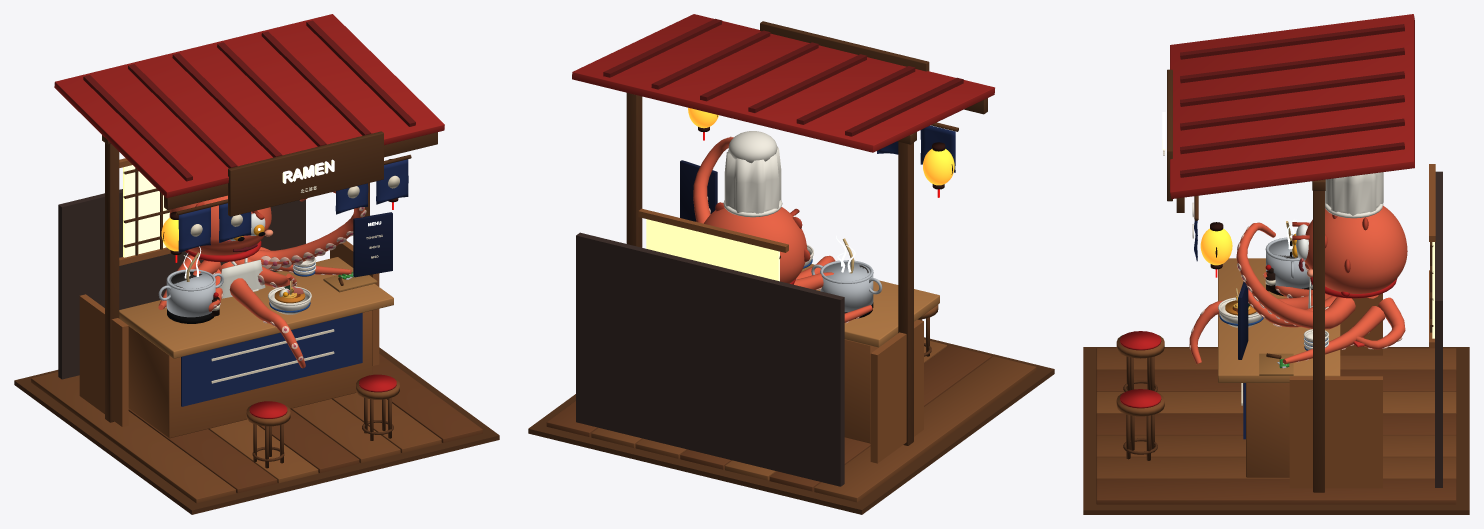
The model's file is octopus-ramen-chef.glb.
3 views of the same model, side by side, from view 1: azimuth 30°, elevation 25°; view 2: azimuth 150°, elevation 25°; view 3: azimuth 270°, elevation 25° (orthographic). The views are drawn at different scales.
Visible parts, largest first — view 1: Roof, BackWall, Cabinet, CounterTop, Machikake, SignBoard, Skirt, Plank_0, WingL, PostL, Plank_6, Plank_1 (+27 smaller); view 2: BackWall, Roof, Skirt, Plank_0, WingL, ShojiPaper, PostL, Plank_1, Toque, Mantle, CounterTop, Cabinet (+17 smaller); view 3: Roof, WingR, Skirt, Plank_6, Mantle, CounterTop, Plank_5, Plank_4, Plank_3, Plank_1, Cabinet, Plank_0 (+26 smaller).
Boxes of the visible parts, x1,y1,x2,y2 form: Roof: (54, 14, 444, 198); BackWall: (58, 189, 305, 379); Cabinet: (128, 310, 372, 438); CounterTop: (119, 257, 393, 358); Machikake: (181, 313, 362, 406); SignBoard: (228, 131, 383, 216); Skirt: (14, 347, 499, 514); Plank_0: (31, 372, 235, 503); WingL: (79, 294, 128, 426); PostL: (105, 143, 119, 422); Plank_6: (372, 354, 482, 442); Plank_1: (128, 409, 277, 493); BackWall: (576, 232, 844, 486); Roof: (572, 14, 994, 152); Skirt: (528, 337, 1054, 514); Plank_0: (814, 356, 1036, 502); WingL: (870, 319, 923, 463); ShojiPaper: (646, 219, 779, 281); PostL: (898, 142, 913, 445); Plank_1: (769, 345, 991, 491); Toque: (724, 146, 781, 213); Mantle: (704, 207, 807, 283); CounterTop: (801, 264, 939, 347); Cabinet: (844, 339, 878, 443); Roof: (1170, 14, 1414, 198); WingR: (1289, 376, 1382, 488); Skirt: (1083, 347, 1469, 514); Plank_6: (1096, 479, 1456, 504); Mantle: (1304, 205, 1407, 293); CounterTop: (1218, 258, 1340, 382); Plank_5: (1096, 457, 1456, 478); Plank_4: (1096, 435, 1456, 457); Plank_3: (1096, 413, 1456, 435); Plank_1: (1096, 370, 1456, 391); Cabinet: (1246, 383, 1289, 477); Plank_0: (1096, 348, 1456, 369).
Size of the model in its own units: 2.9 by 2.89 by 2.9.
